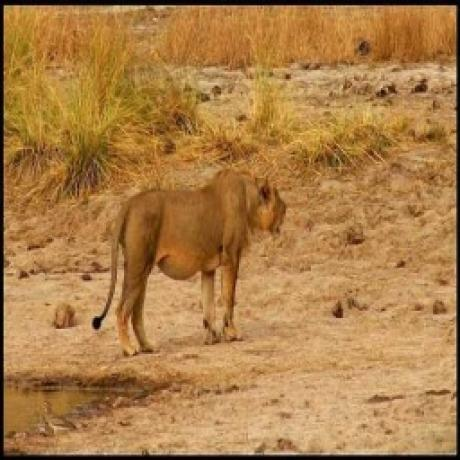Lion: (94, 169, 288, 358)
